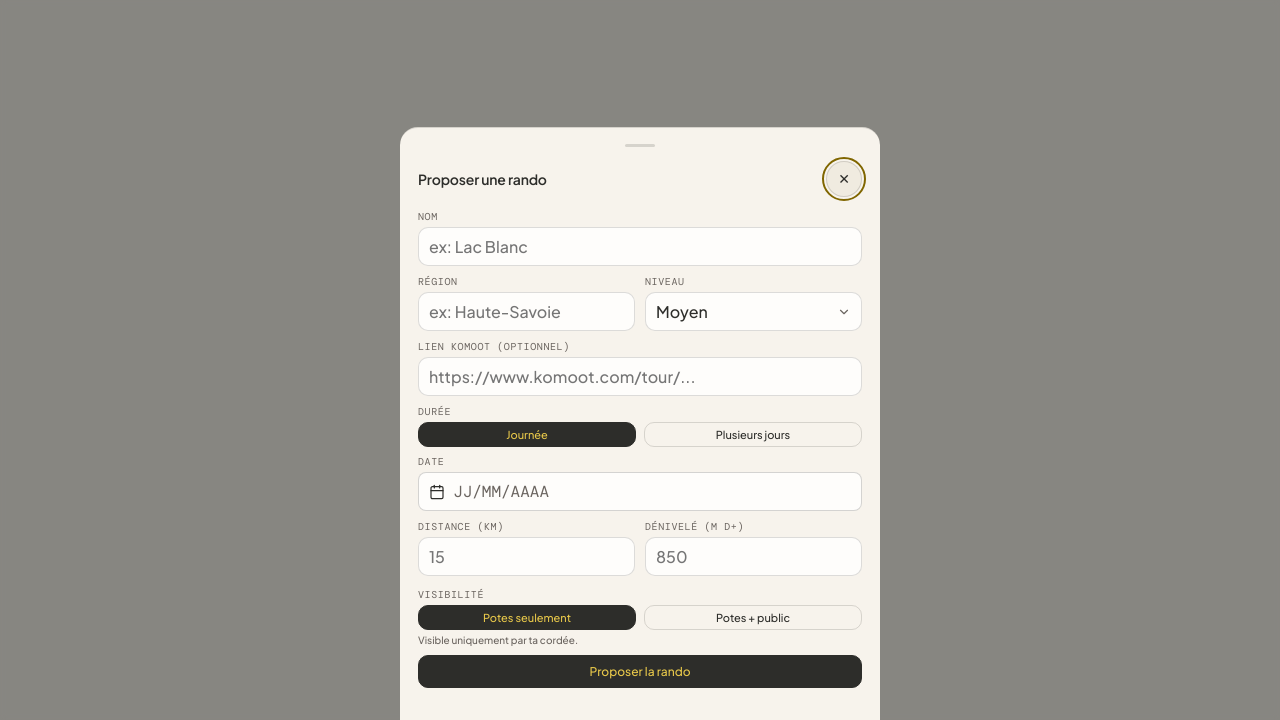
Test: AddRandoModal › la bascule Journée/Plusieurs jours change les champs de date
The image size is (1280, 720).
Expected: the text "Date" is shown, [418,455,444,468]
Step 1. Click the button "Plusieurs jours" → [753, 434], box [644,422,862,447]
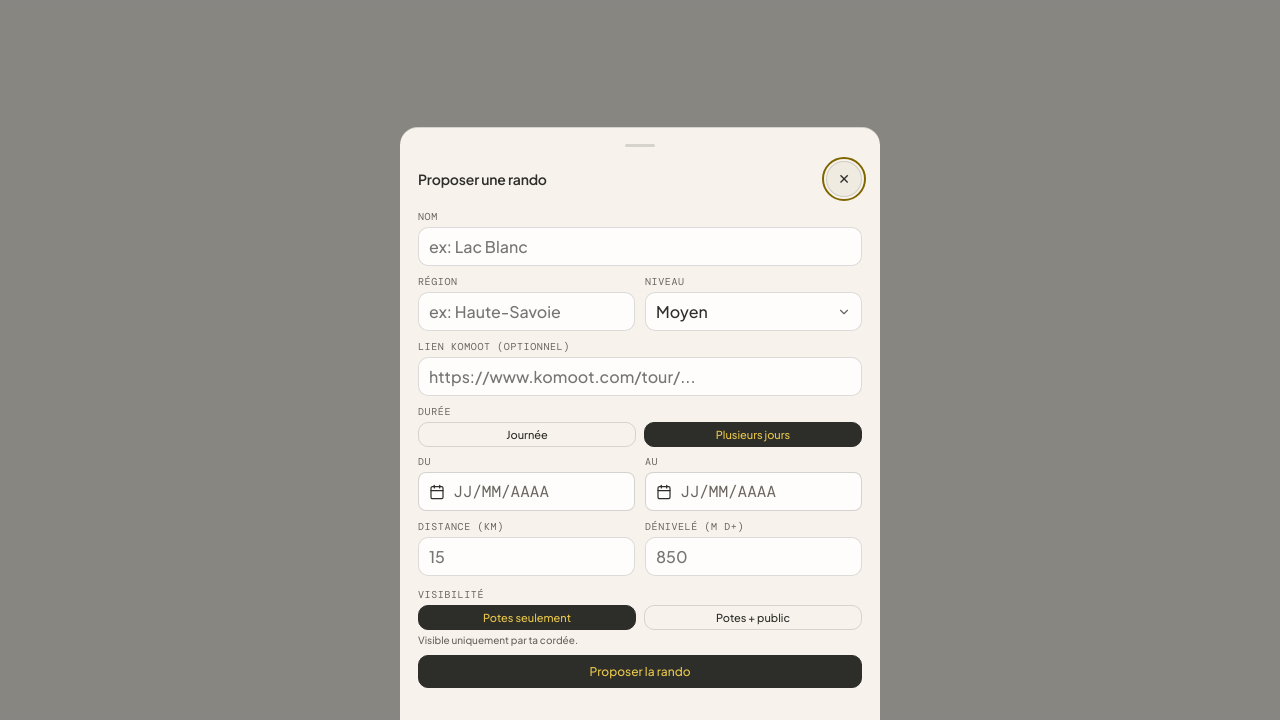
Expected: the text "Date" is gone
Expected: the text "Du" is shown, [418,455,431,468]
Expected: the text "Au" is shown, [645,455,658,468]
